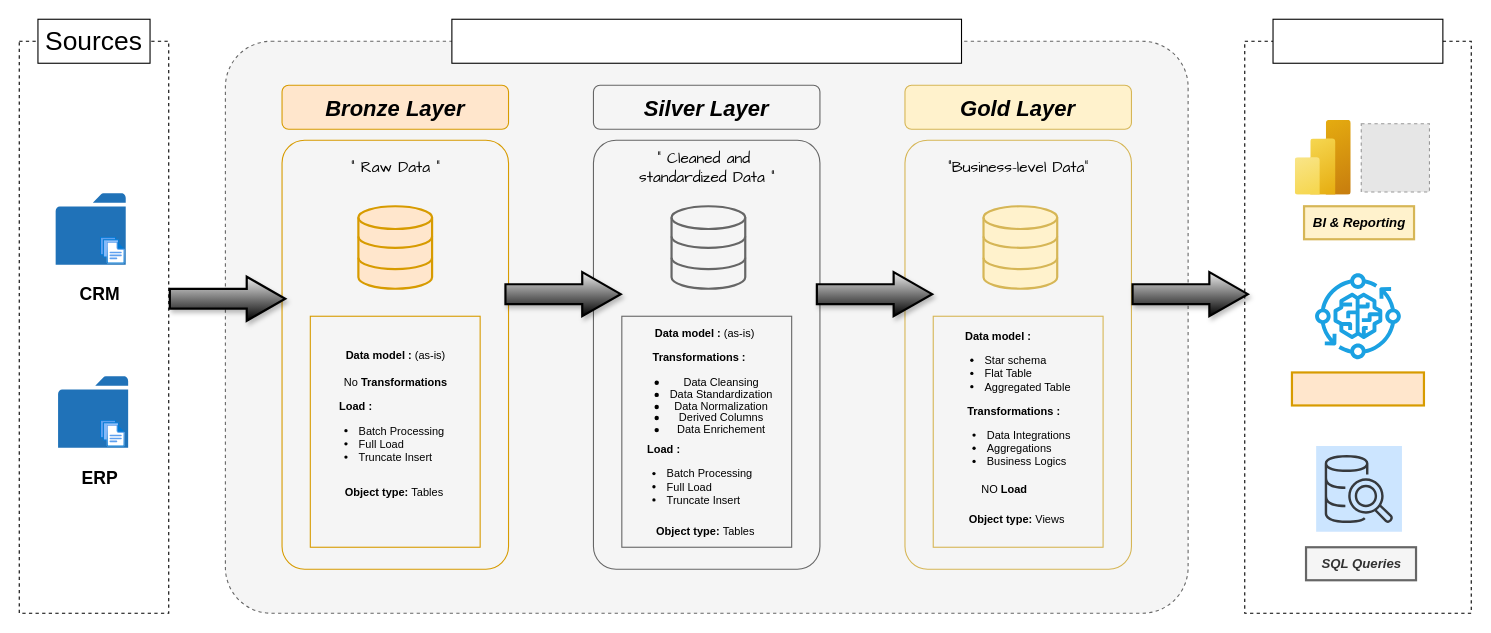
Some shapes in this 1491 by 633 pixel diagram are drawn without their labels. Grey dashed boxes stand in for pictures. The shapes that lost their labels are listed below. From the top down, each one's centre as x and y in pixels, then its label:
At (x=706, y=40): "Data Warehouse".
At (x=1357, y=40): "Consume".
At (x=1357, y=388): "Machine Learning".
